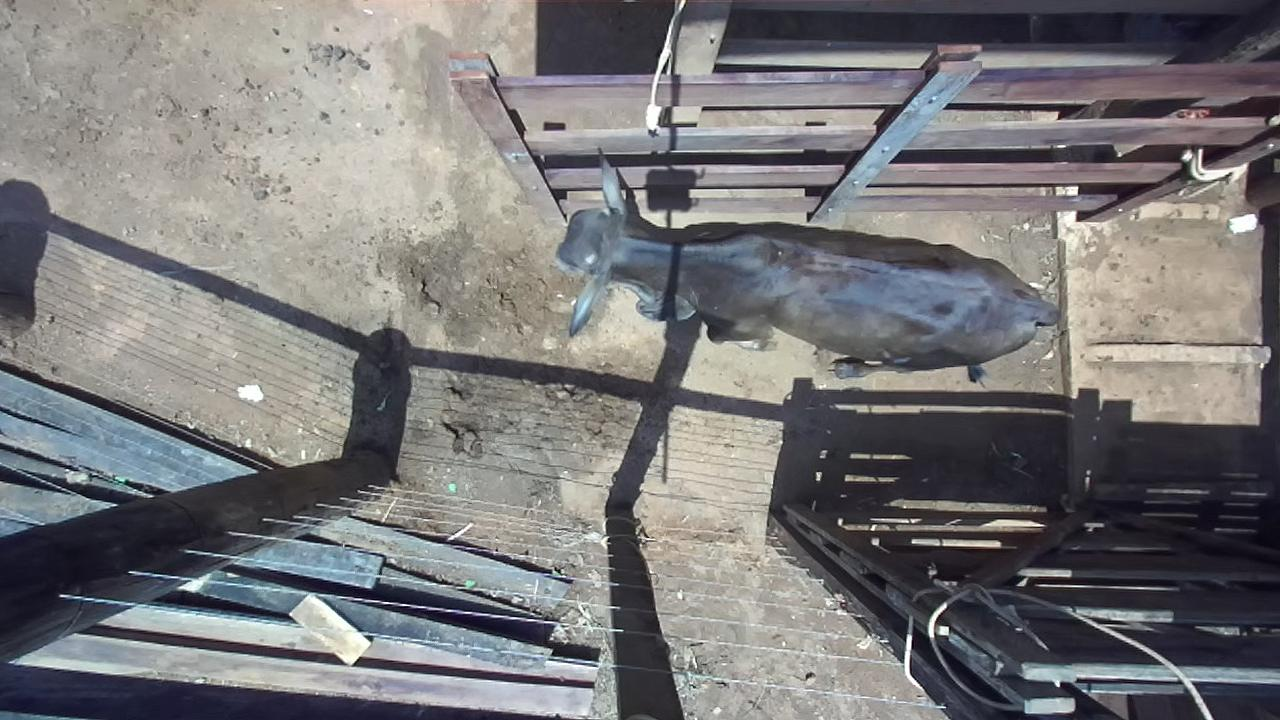cattle: (554, 146, 1061, 386)
